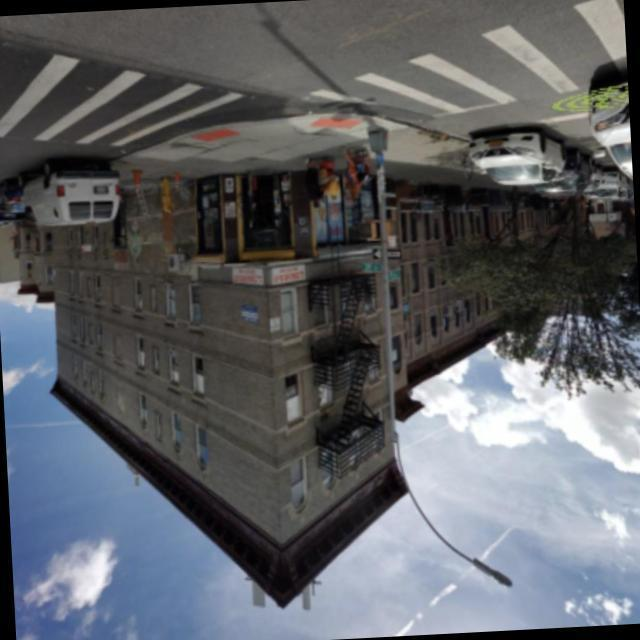off: (439, 501, 536, 612)
